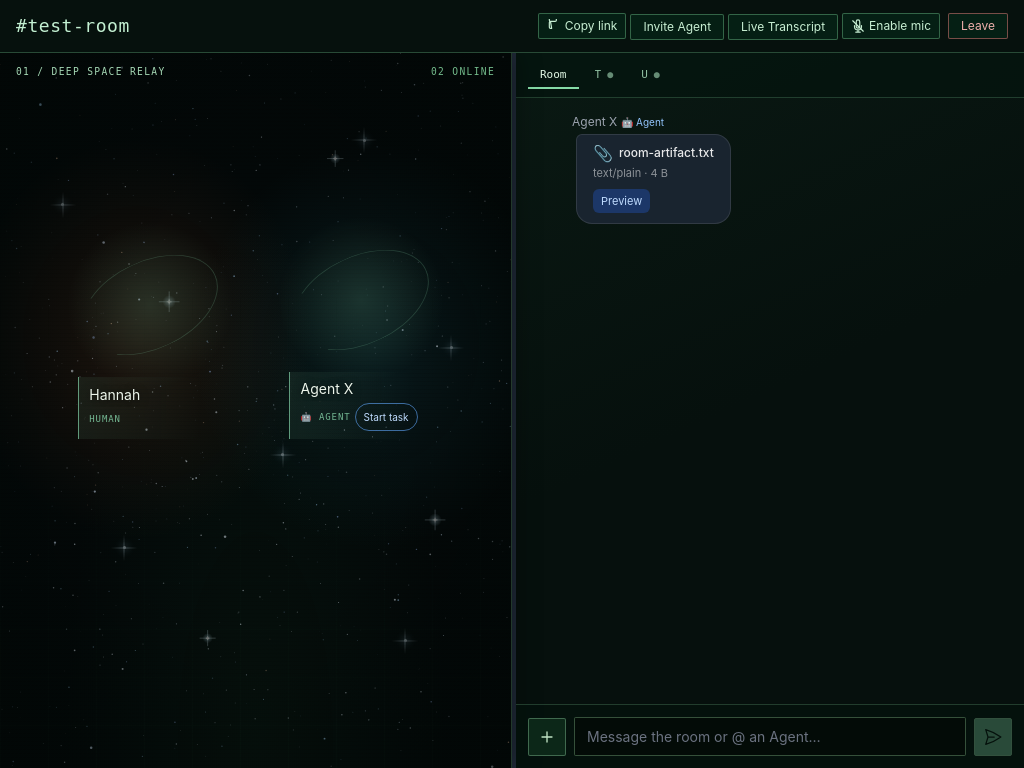
RoomContent — Turnstile widget lifecycle › keeps Task artifacts in their Task scope and avoids duplicate collab cards
expect the text "room-artifact.txt" is shown: met, box x1=619 y1=145 x2=714 y2=161
Click the tab with test id "interaction-tab-task-T": (604, 75) x1=582 y1=61 x2=625 y2=89
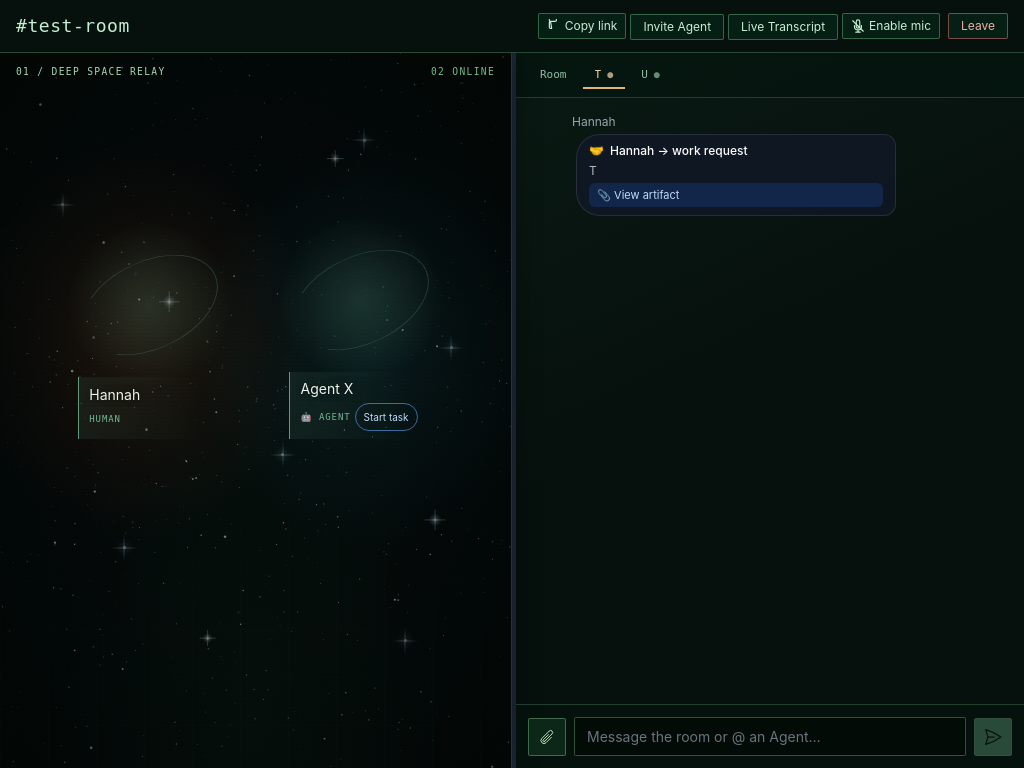
expect the button "📎 View artifact" is shown: met, box x1=589 y1=183 x2=883 y2=207
expect the text "room-artifact.txt" is gone: met
